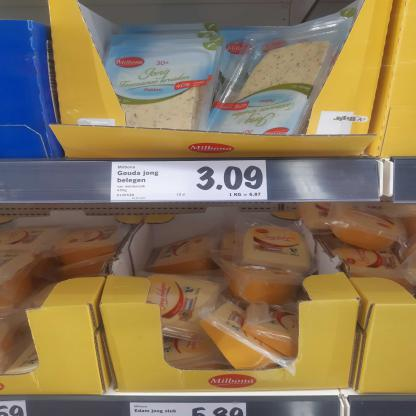prtg: (112, 161, 268, 203), (131, 403, 247, 416), (1, 401, 28, 416)
